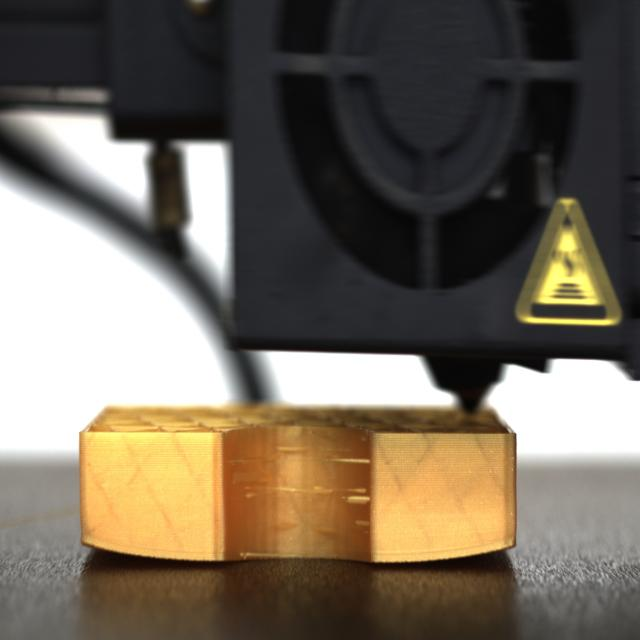Warping: (434, 534, 519, 568), (78, 529, 148, 567)
